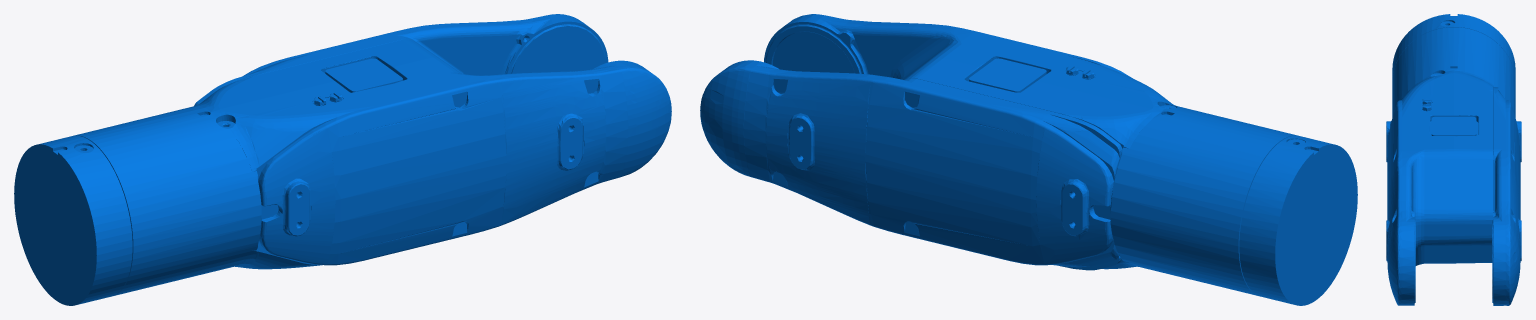
The model's file is MotomanGP7Link4.dae.
3 renders of one model, left to right at view 1: azimuth 30°, elevation 25°; view 2: azimuth 150°, elevation 25°; view 3: azimuth 270°, elevation 25°, orthographic. The views are drawn at different scales.
Visible parts, largest first — view 1: node_db152a0c_76a1_480b_aadc_eec23861ef4d_mesh0; view 2: node_db152a0c_76a1_480b_aadc_eec23861ef4d_mesh0; view 3: node_db152a0c_76a1_480b_aadc_eec23861ef4d_mesh0.
Part boxes in pixels (bbox=[...]): node_db152a0c_76a1_480b_aadc_eec23861ef4d_mesh0: bbox=[14, 14, 671, 305]; node_db152a0c_76a1_480b_aadc_eec23861ef4d_mesh0: bbox=[700, 14, 1357, 305]; node_db152a0c_76a1_480b_aadc_eec23861ef4d_mesh0: bbox=[1386, 14, 1521, 305].
Bounding box in the file's own units: 0.4045 × 0.11 × 0.1036.
